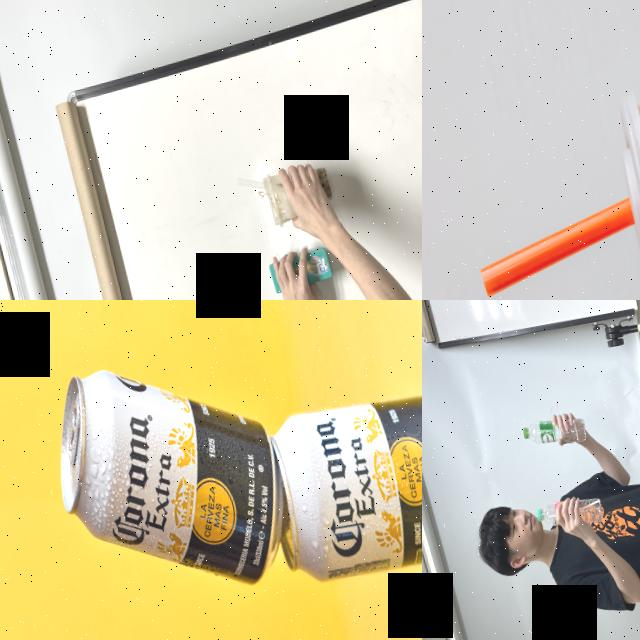bottle: (534, 492, 606, 534), (522, 410, 590, 450)
can: (39, 338, 301, 616), (256, 379, 422, 588)
cup: (260, 158, 338, 226)
